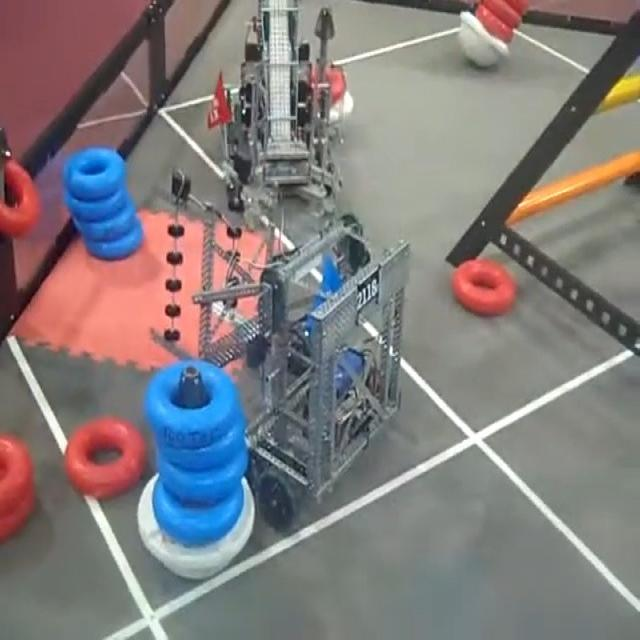Blue-Ring: (145, 360, 241, 448), (152, 478, 242, 546), (158, 447, 248, 504), (159, 413, 245, 469), (64, 148, 125, 200), (74, 200, 138, 241), (85, 218, 144, 259), (64, 185, 129, 222)
Red-Ring: (65, 417, 145, 499), (452, 258, 516, 315), (0, 158, 40, 236), (1, 433, 34, 516), (306, 64, 347, 102), (0, 497, 34, 542), (475, 3, 514, 41), (481, 0, 521, 28)
